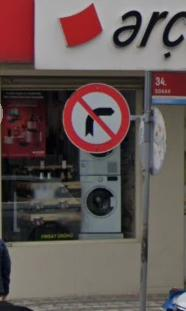rightturnsareforbidden: (64, 88, 130, 151)
